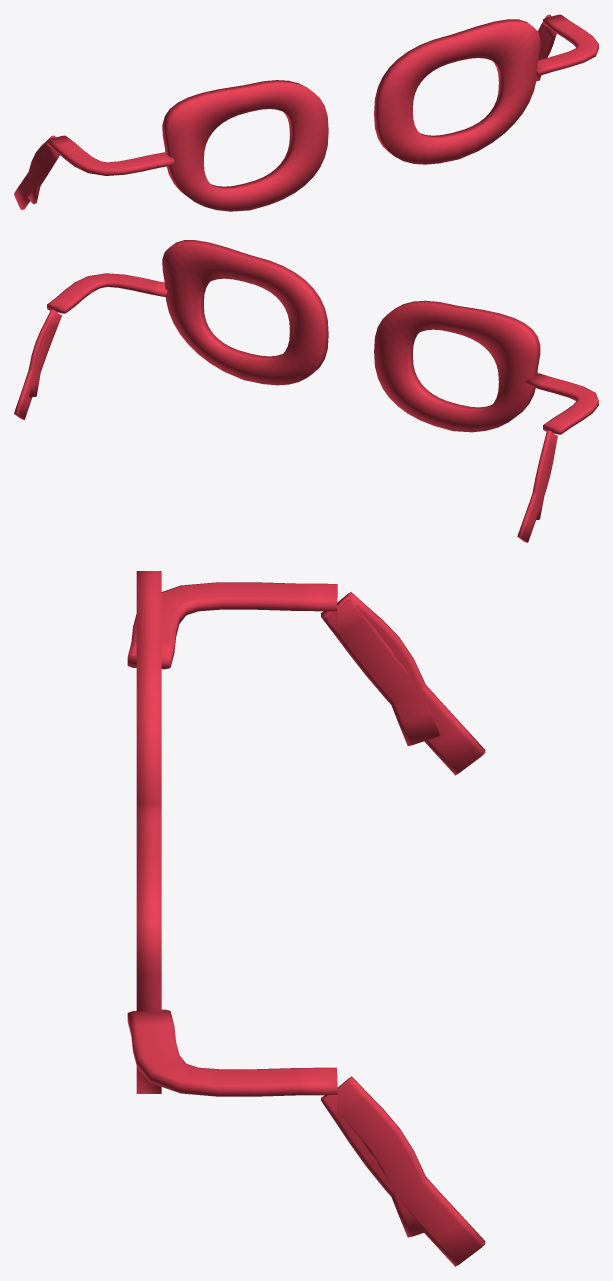
File: hero_mask-bunny.glb
3 views of the same model, one above another, from view 1: azimuth 30°, elevation 25°; view 2: azimuth 150°, elevation 25°; view 3: azimuth 270°, elevation 25° (orthographic). The views are drawn at different scales.
Visible parts, largest first — view 1: mask, mask.001, tie.001, tie, tail.003, tail.002, tail.001; view 2: mask, mask.001, tie, tie.001, tail.001, tail.002, tail.003, tail; view 3: tie, tail.003, tie.001, mask.001, mask, tail, tail.001, tail.002.
Part boxes in pixels (left/top/right/bottom): mask: left=374, top=19, right=540, bottom=164; mask.001: left=162, top=80, right=328, bottom=211; tie.001: left=47, top=135, right=174, bottom=175; tie: left=536, top=14, right=598, bottom=75; tail.003: left=14, top=150, right=59, bottom=209; tail.002: left=28, top=135, right=55, bottom=203; tail.001: left=538, top=16, right=556, bottom=60; mask: left=162, top=240, right=328, bottom=385; mask.001: left=374, top=300, right=540, bottom=432; tie: left=47, top=273, right=167, bottom=313; tie.001: left=526, top=373, right=598, bottom=434; tail.001: left=14, top=312, right=61, bottom=419; tail.002: left=532, top=430, right=555, bottom=519; tail.003: left=517, top=434, right=557, bottom=542; tail: left=28, top=309, right=61, bottom=397; tie: left=127, top=1009, right=337, bottom=1096; tail.003: left=320, top=598, right=485, bottom=775; tie.001: left=127, top=582, right=337, bottom=669; mask.001: left=136, top=571, right=161, bottom=805; mask: left=136, top=806, right=161, bottom=1093; tail: left=337, top=1076, right=426, bottom=1237; tail.001: left=321, top=1095, right=485, bottom=1266; tail.002: left=323, top=592, right=440, bottom=745.
Bounding box in the file's own units: 1.35 × 0.3604 × 0.403.
